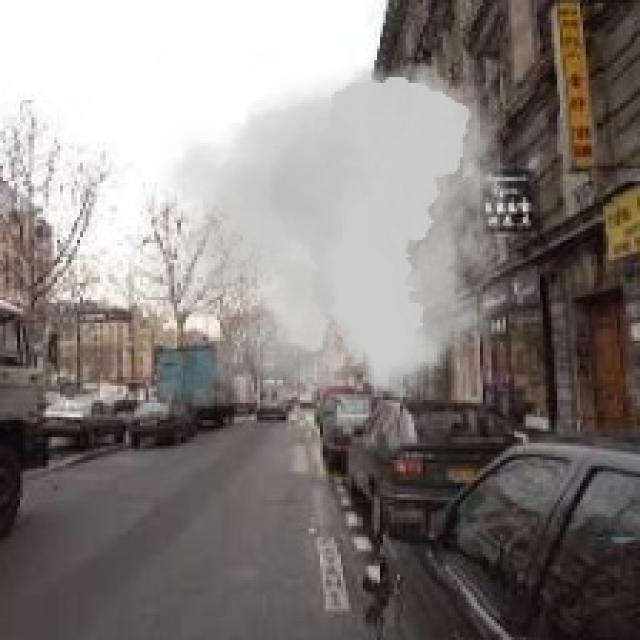smoke: (120, 51, 540, 423)
